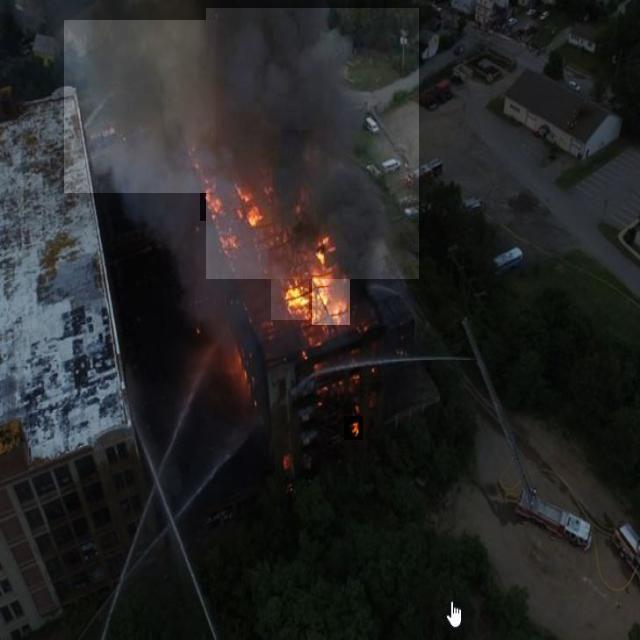Fire: (312, 266, 350, 325), (271, 271, 309, 320), (234, 182, 266, 227), (312, 231, 341, 268), (200, 187, 224, 221), (344, 416, 363, 440)
Smoke: (206, 8, 419, 279), (64, 20, 216, 193)
